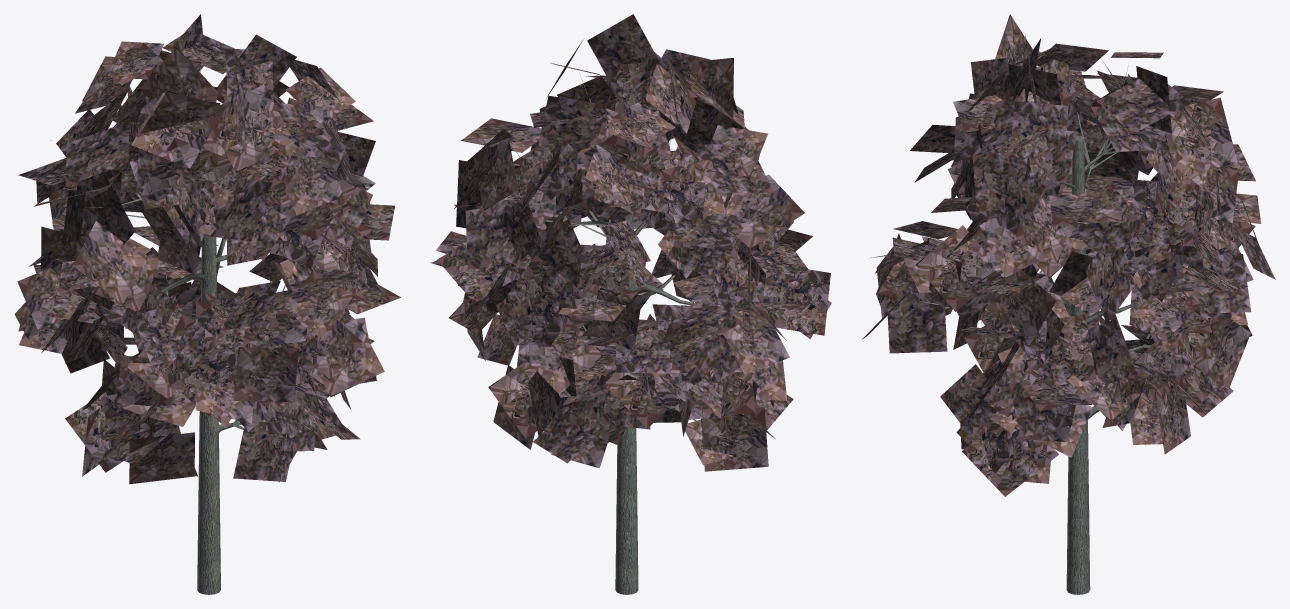
File: European_Beech_Model_0.obj
The picture shows the model from 3 angles, left to right: view 1: azimuth 30°, elevation 25°; view 2: azimuth 150°, elevation 25°; view 3: azimuth 270°, elevation 25°; orthographic projection. The views are drawn at different scales.
Parts seen in each view (by area): view 1: Foliage__leafcard, Bark; view 2: Foliage__leafcard, Bark; view 3: Foliage__leafcard, Bark.
Boxes of the visible parts, left/top/right/bottom form: Foliage__leafcard: left=14, top=14, right=400, bottom=484; Bark: left=85, top=65, right=337, bottom=594; Foliage__leafcard: left=430, top=14, right=831, bottom=471; Bark: left=494, top=60, right=759, bottom=594; Foliage__leafcard: left=862, top=14, right=1275, bottom=496; Bark: left=899, top=66, right=1240, bottom=594.
Bounding box in the file's own units: 8.24 × 12.5 × 8.32.
Materials: 2 (2 with a texture image).
